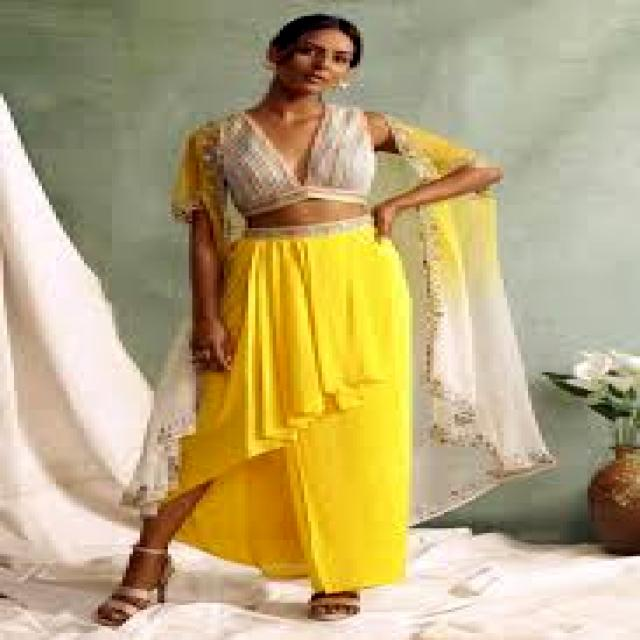dress: (126, 115, 556, 591)
